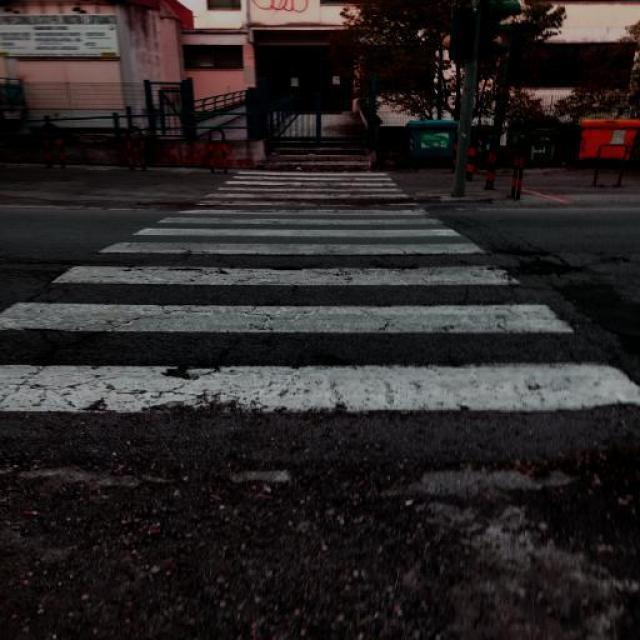crosswalk: (0, 169, 640, 409)
